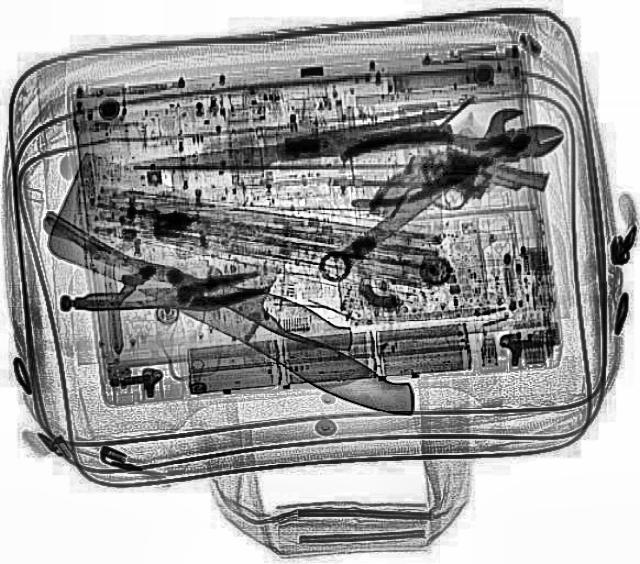Gun: (366, 129, 550, 255)
Knife: (20, 146, 472, 426), (93, 241, 361, 356)
Pliers: (332, 102, 574, 212)
Wrench: (306, 100, 538, 290)
